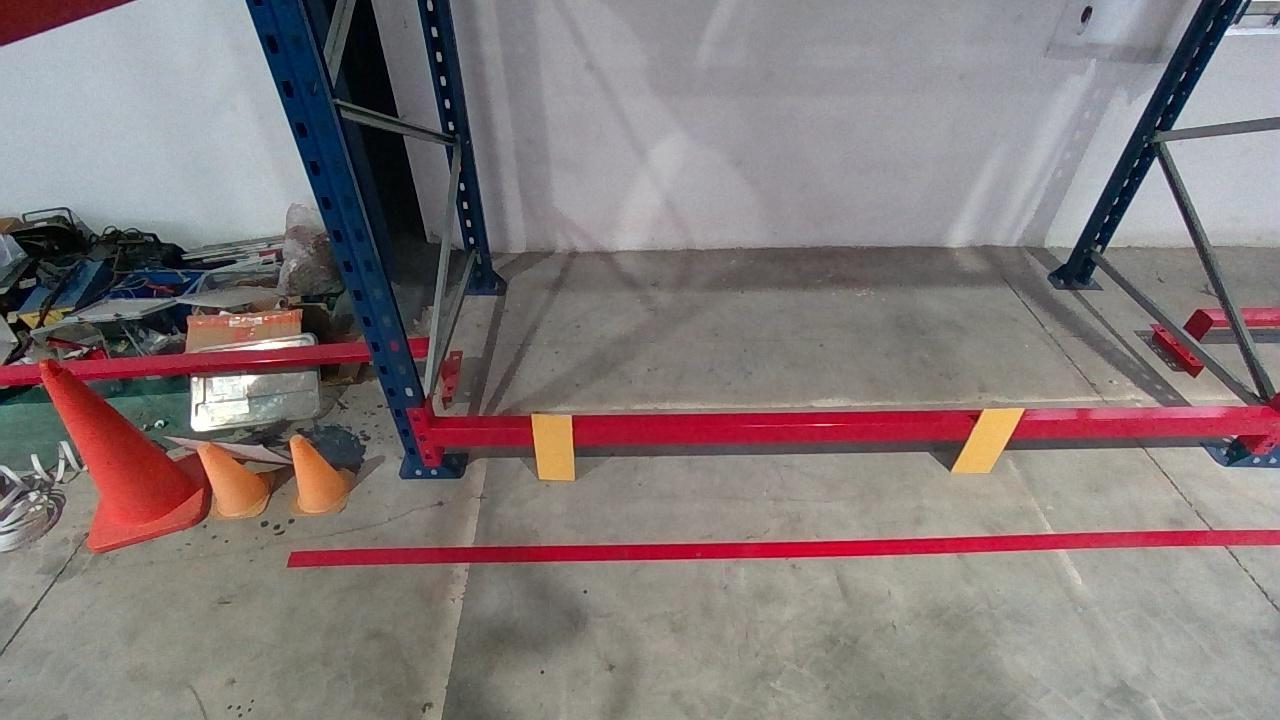h_rack: (431, 416, 1279, 447)
orange_strip: (949, 408, 1029, 473), (531, 415, 574, 480)
red_line: (287, 530, 1277, 565)
